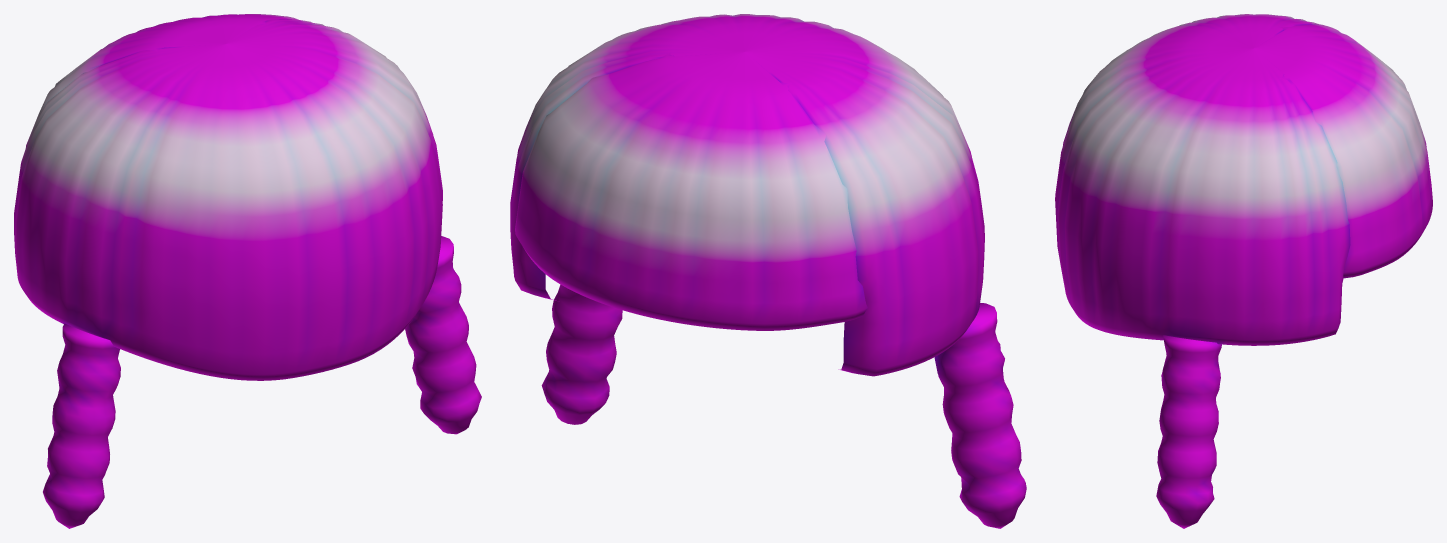
Rendered from pigtails.glb.
3 views of the same model, side by side, from view 1: azimuth 30°, elevation 25°; view 2: azimuth 150°, elevation 25°; view 3: azimuth 270°, elevation 25° (orthographic). The views are drawn at different scales.
Visible parts, largest first — view 1: pigtails; view 2: pigtails; view 3: pigtails.
Boxes of the visible parts, x1,y1,x2,y2 form: pigtails: (14,14,481,528); pigtails: (510,14,1026,528); pigtails: (1055,14,1432,528).
Bounding box in the file's own units: 1.05 × 0.9581 × 0.8399.
